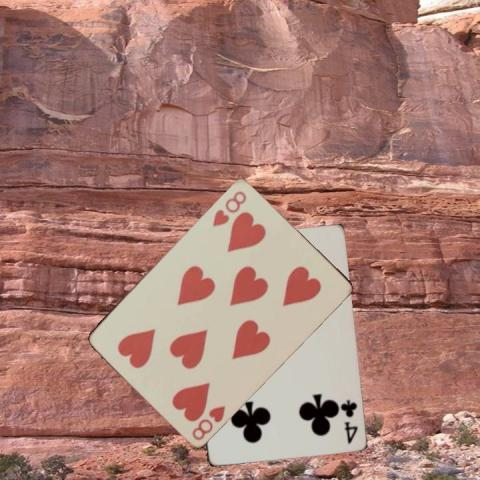4c: (336, 396, 359, 445)
8h: (209, 187, 248, 228), (189, 402, 227, 441)
